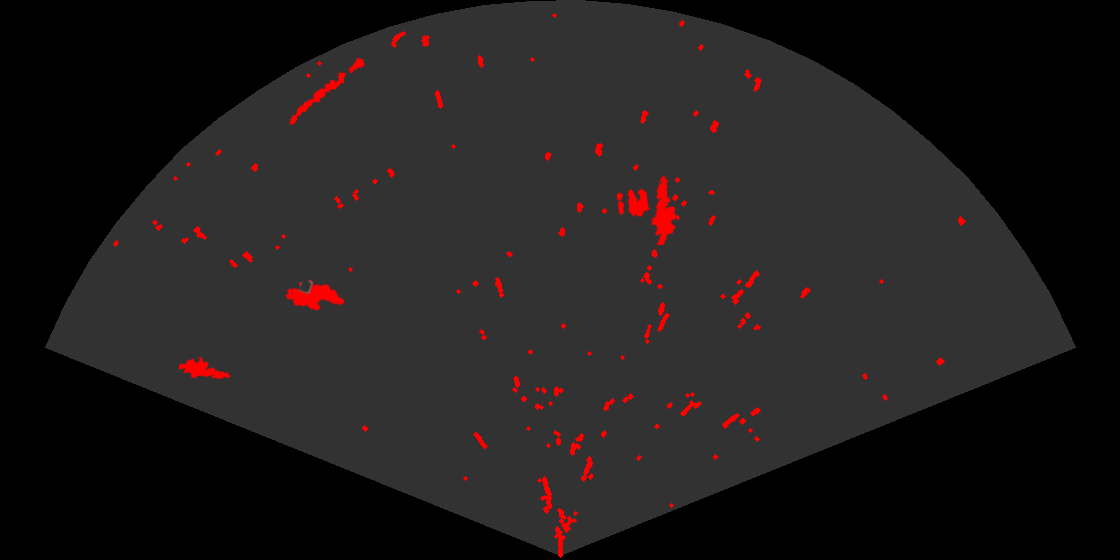AUV: (284, 278, 347, 312)
ball: (615, 187, 650, 218)
chain: (288, 57, 366, 126)
frogman: (650, 174, 682, 245), (179, 355, 232, 381)
